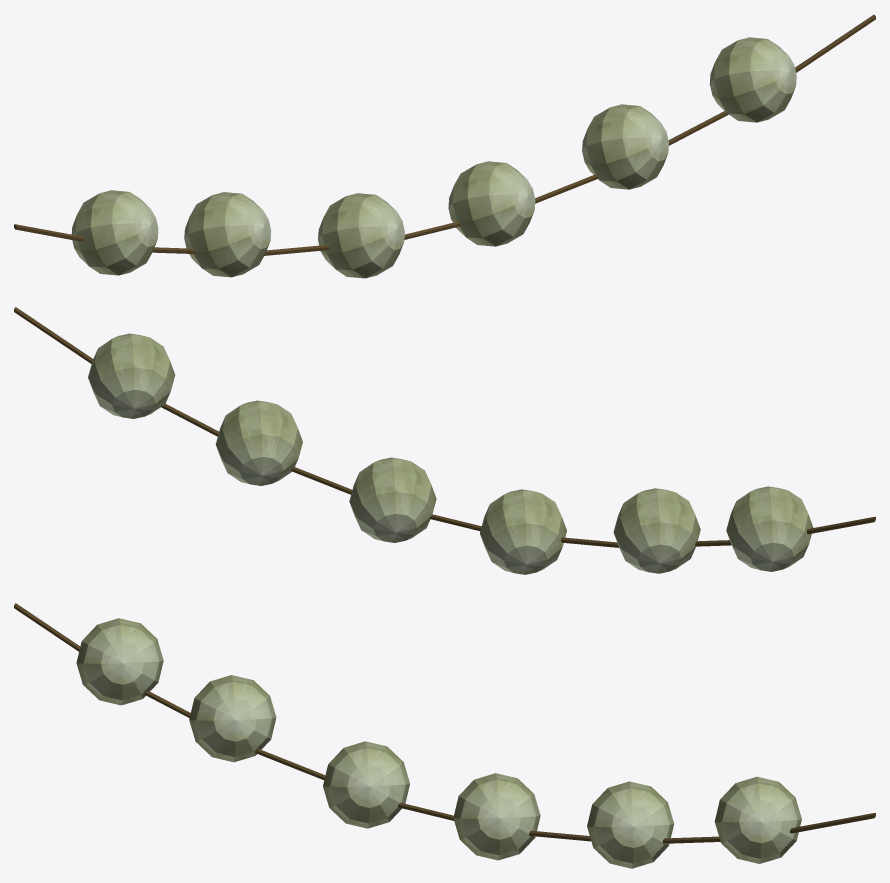
Rendered from NASZYJNIK_BIALE_PERLY.glb.
The picture shows the model from 3 angles, top to bottom: view 1: azimuth 30°, elevation 25°; view 2: azimuth 150°, elevation 25°; view 3: azimuth 330°, elevation 25°; orthographic projection.
Visible parts, largest first — view 1: NASZYJNIK_BIALE_PERLY; view 2: NASZYJNIK_BIALE_PERLY; view 3: NASZYJNIK_BIALE_PERLY.
Boxes of the visible parts, x1=… form: NASZYJNIK_BIALE_PERLY: x1=14, y1=14, x2=875, y2=278; NASZYJNIK_BIALE_PERLY: x1=14, y1=307, x2=875, y2=574; NASZYJNIK_BIALE_PERLY: x1=14, y1=603, x2=875, y2=868.
Size of the model in its own units: 0.9604 by 0.1514 by 0.0834.
2 materials, 2 textured.
